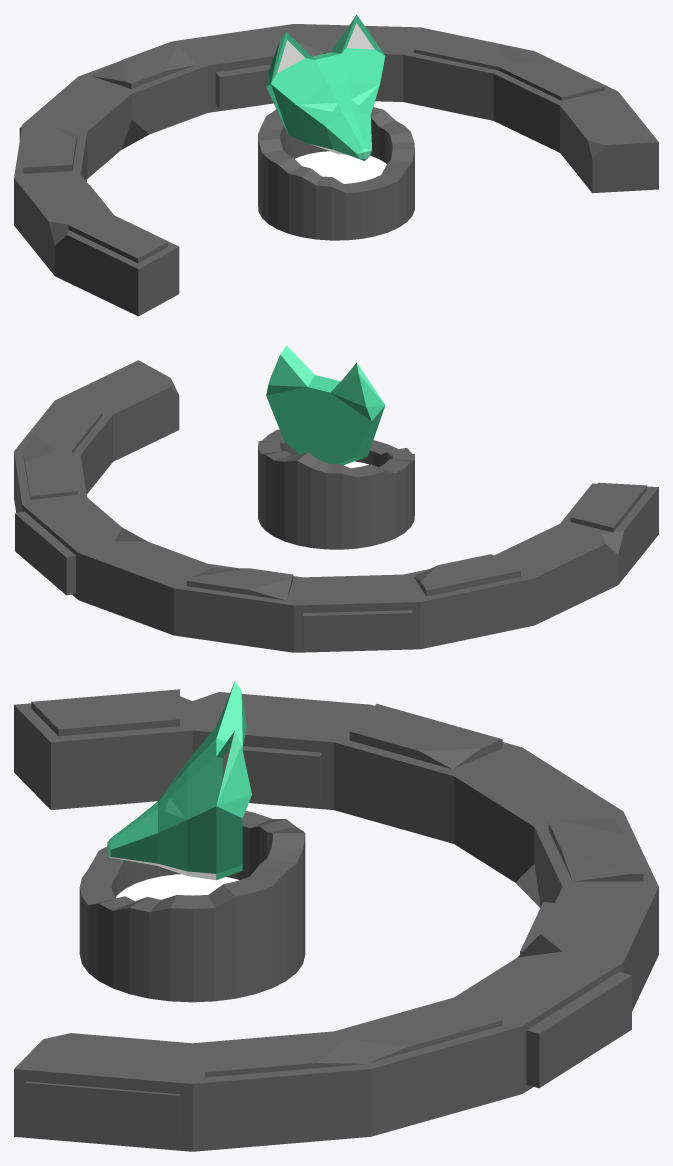
The model's file is Temple_Fox.fbx.
The picture shows the model from 3 angles, top to bottom: view 1: azimuth 30°, elevation 25°; view 2: azimuth 150°, elevation 25°; view 3: azimuth 270°, elevation 25°; orthographic projection. The views are drawn at different scales.
Parts seen in each view (by area): view 1: Circle, Cylinder, Plane; view 2: Circle, Cylinder, Plane; view 3: Circle, Cylinder, Plane.
Part boxes in pixels (x1=…): Circle: x1=14, y1=24, x2=658, y2=316; Cylinder: x1=258, y1=107, x2=414, y2=240; Plane: x1=266, y1=14, x2=385, y2=160; Circle: x1=14, y1=360, x2=658, y2=652; Cylinder: x1=258, y1=429, x2=414, y2=549; Plane: x1=266, y1=345, x2=385, y2=465; Circle: x1=14, y1=689, x2=658, y2=1151; Cylinder: x1=79, y1=811, x2=305, y2=1002; Plane: x1=107, y1=681, x2=251, y2=880.
Size of the model in its own units: 828 by 244 by 572.
